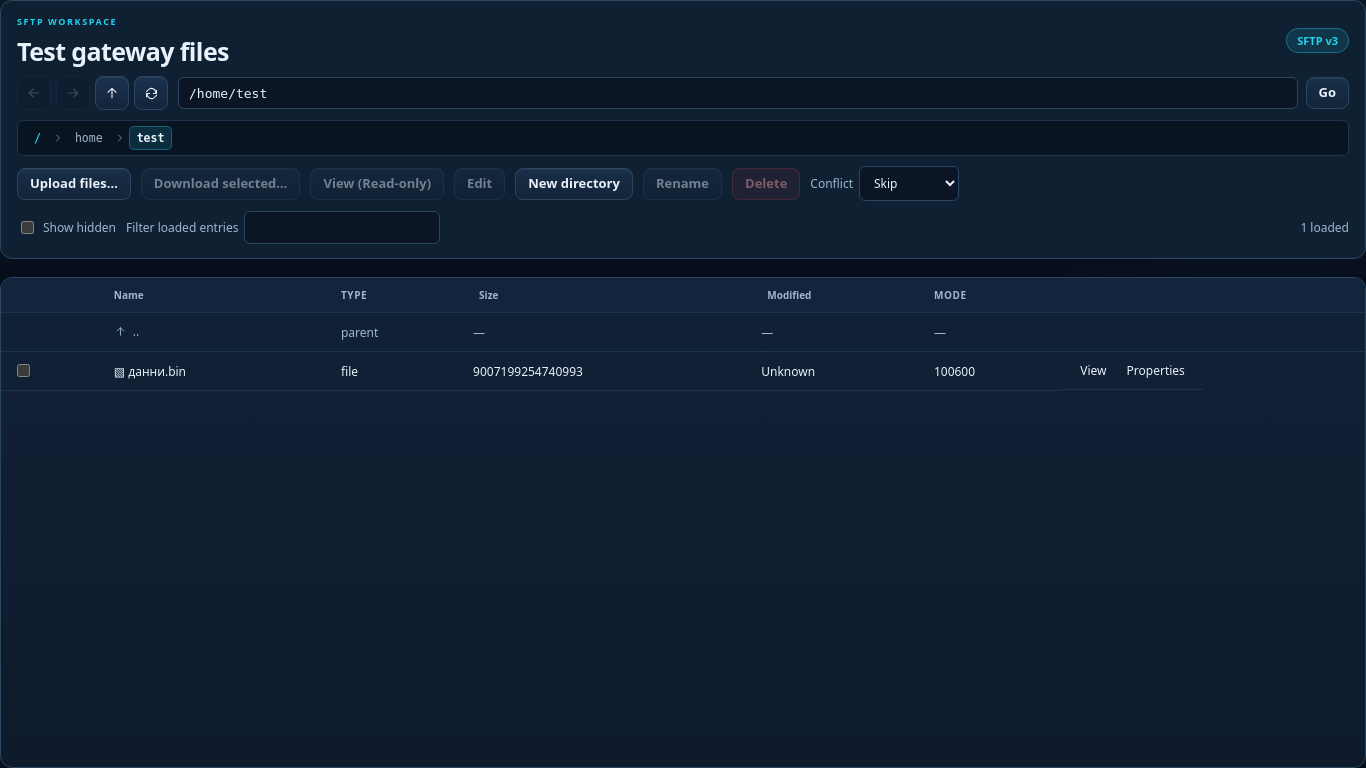
Test: Files workspace boundaries › L-05 keeps committed history index intact across permission failures, rapid Back/Forward, and out-of-order responses
This screenshot has width=1366, height=768.
Replace the text in the field named "Remote path" with "/etc" at (738, 93), box [178,77,1298,109]
Then press Enter
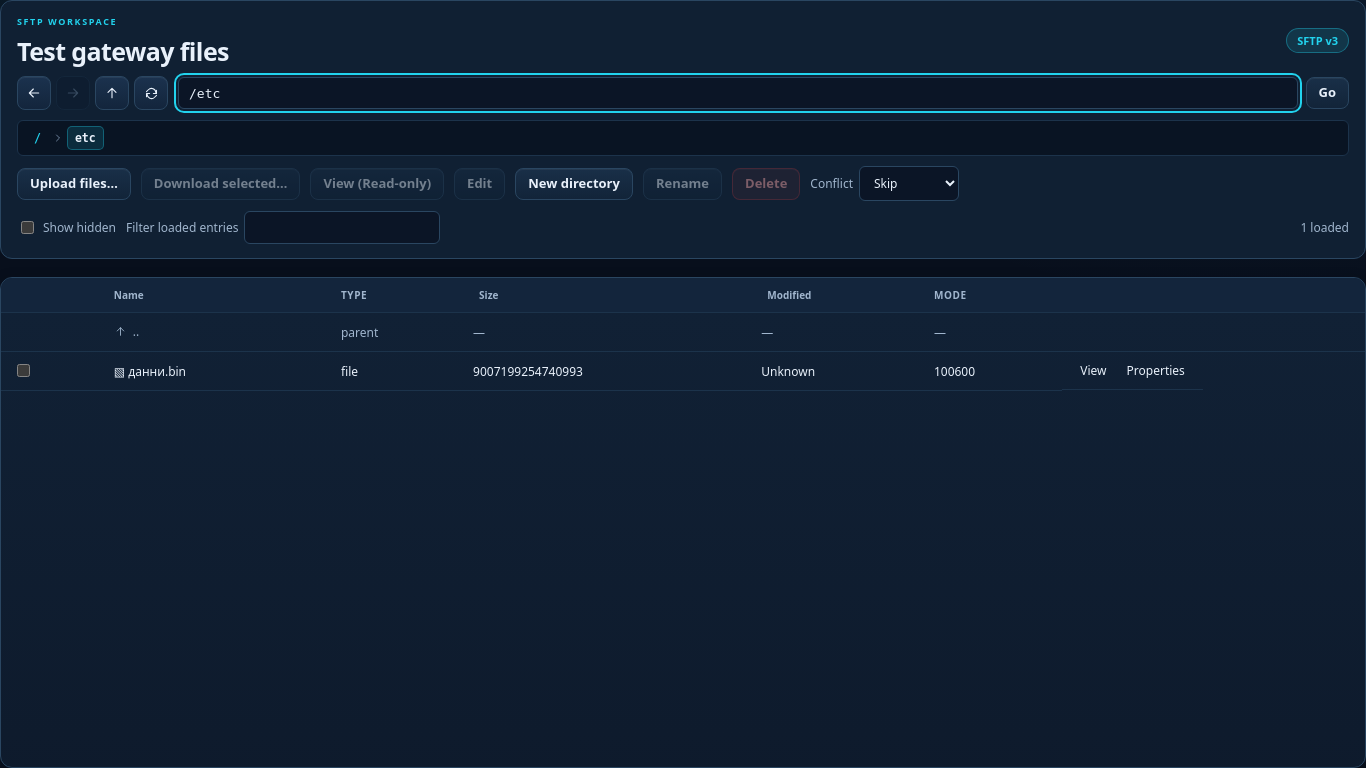
Replace the text in the field showing "/etc" with "/var/log" at (738, 93), box [178,77,1298,109]
Then press Enter
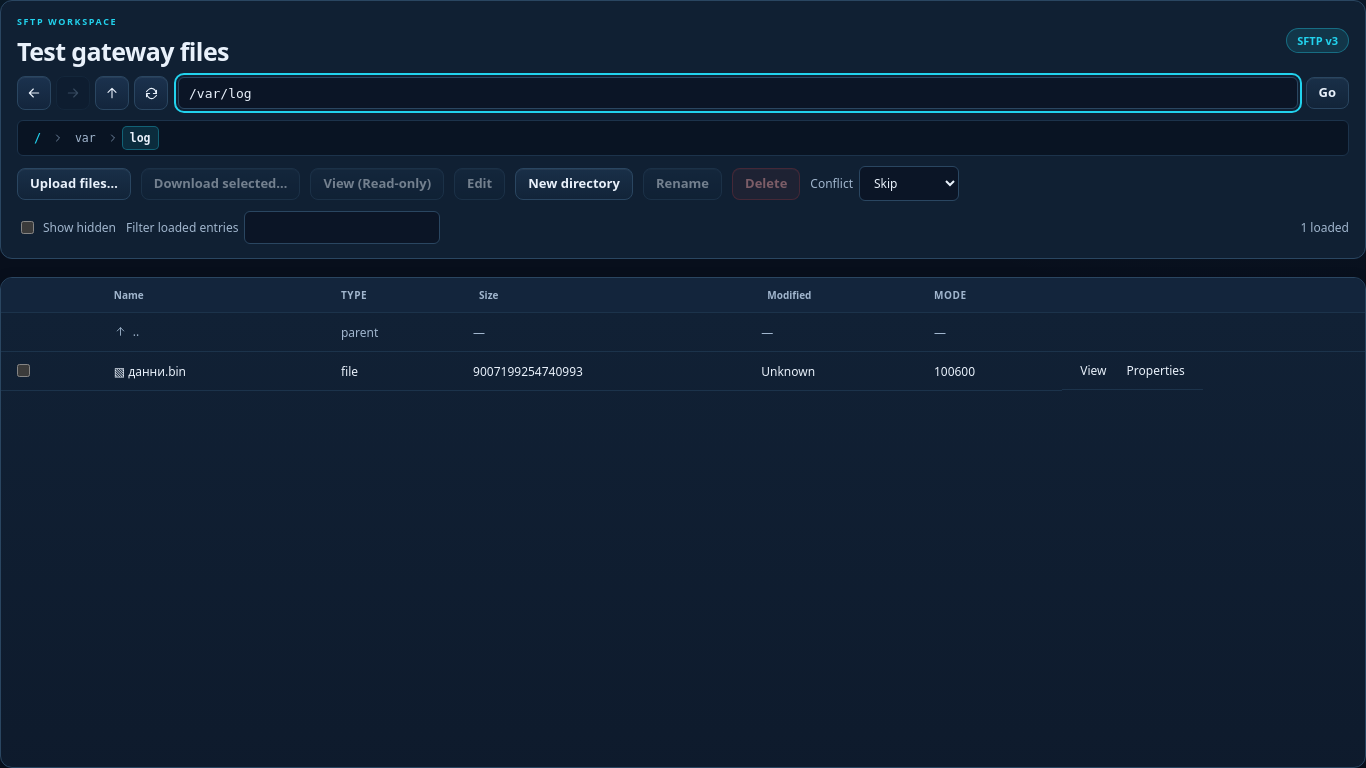
expect the button named "Forward" is disabled: met, box [56,76,90,110]
expect the button named "Back" is enabled: met
Click the button named "Back" at (34, 93), box [17,76,51,110]
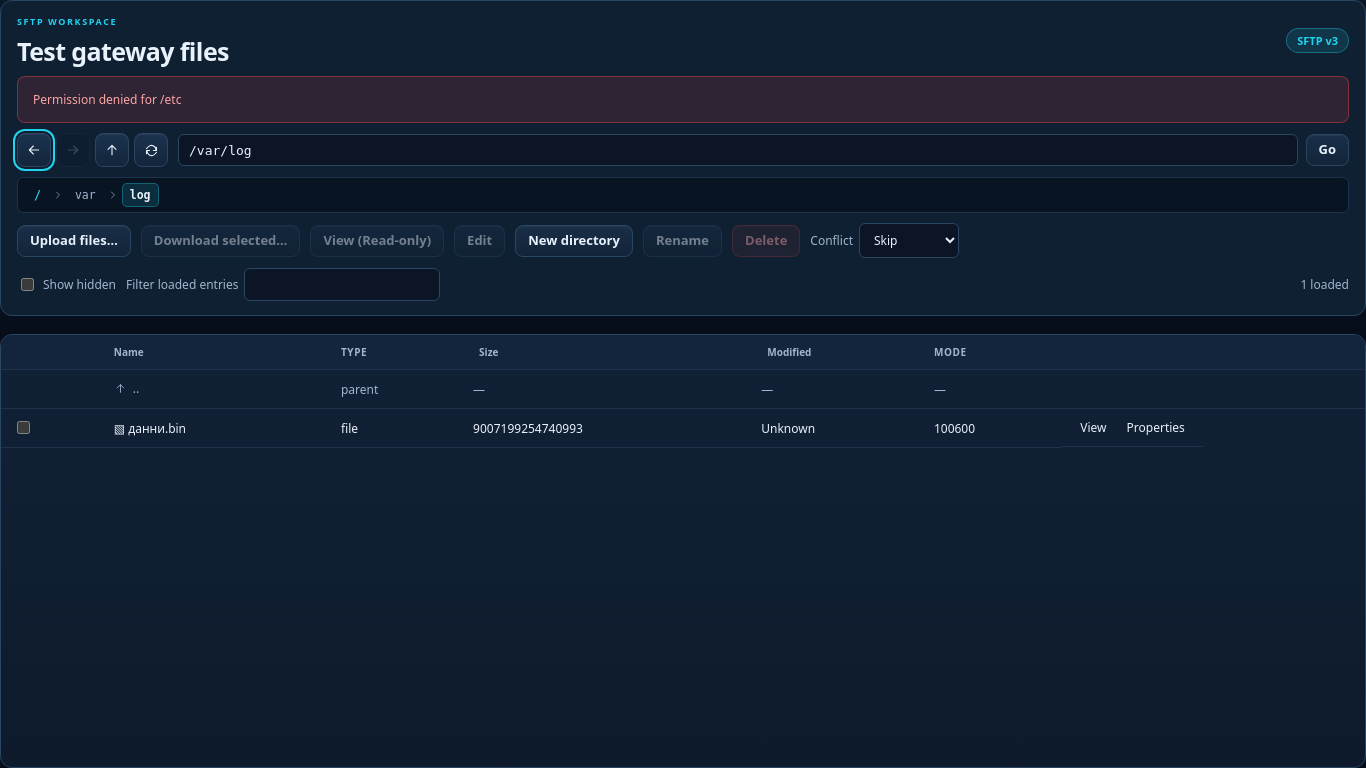
expect the button named "Forward" is disabled: met, box [56,133,90,167]
expect the button named "Back" is enabled: met
expect the message reads "Permission denied for /etc": met, box [33,91,181,108]
Click the button named "Back" at (34, 150), box [17,133,51,167]
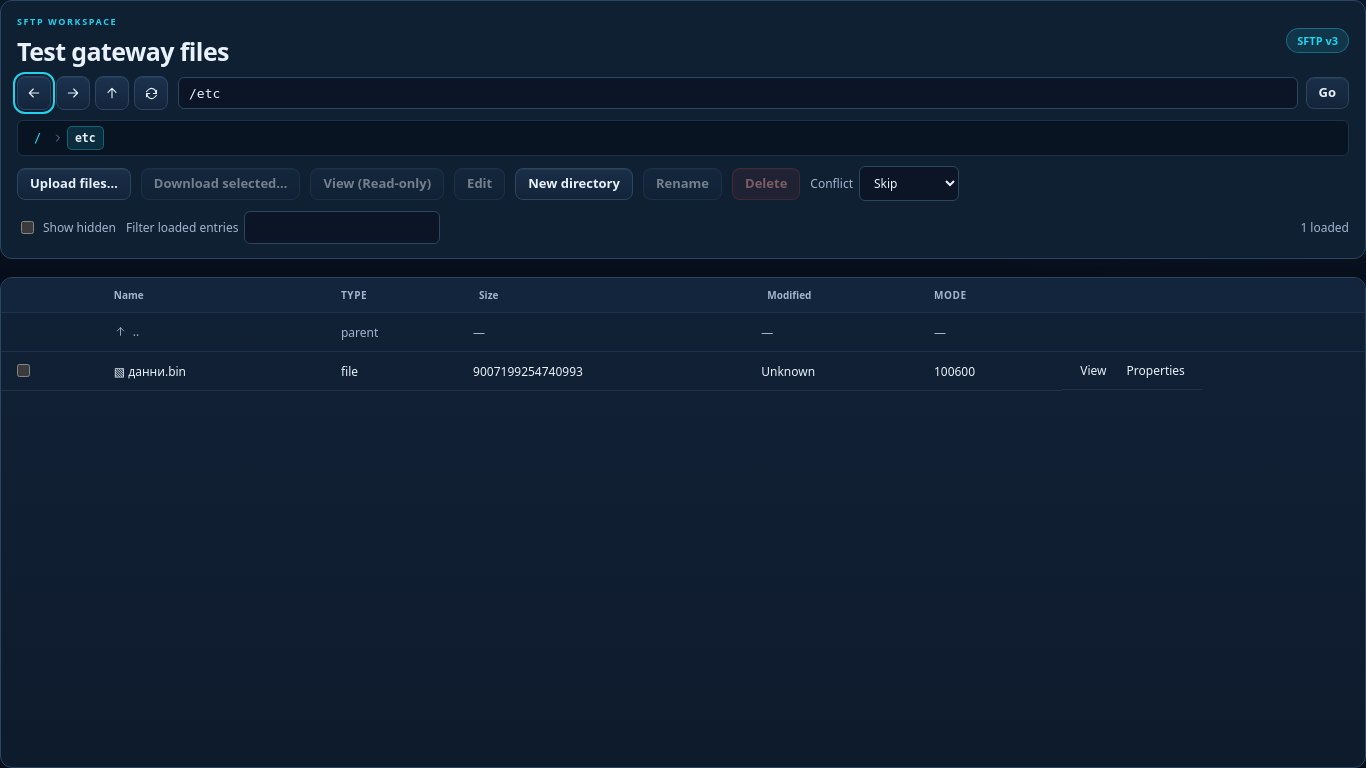
expect the button named "Back" is enabled: met
expect the button named "Forward" is enabled: met, box [56,76,90,110]
Click the button named "Back" at (34, 93), box [17,76,51,110]
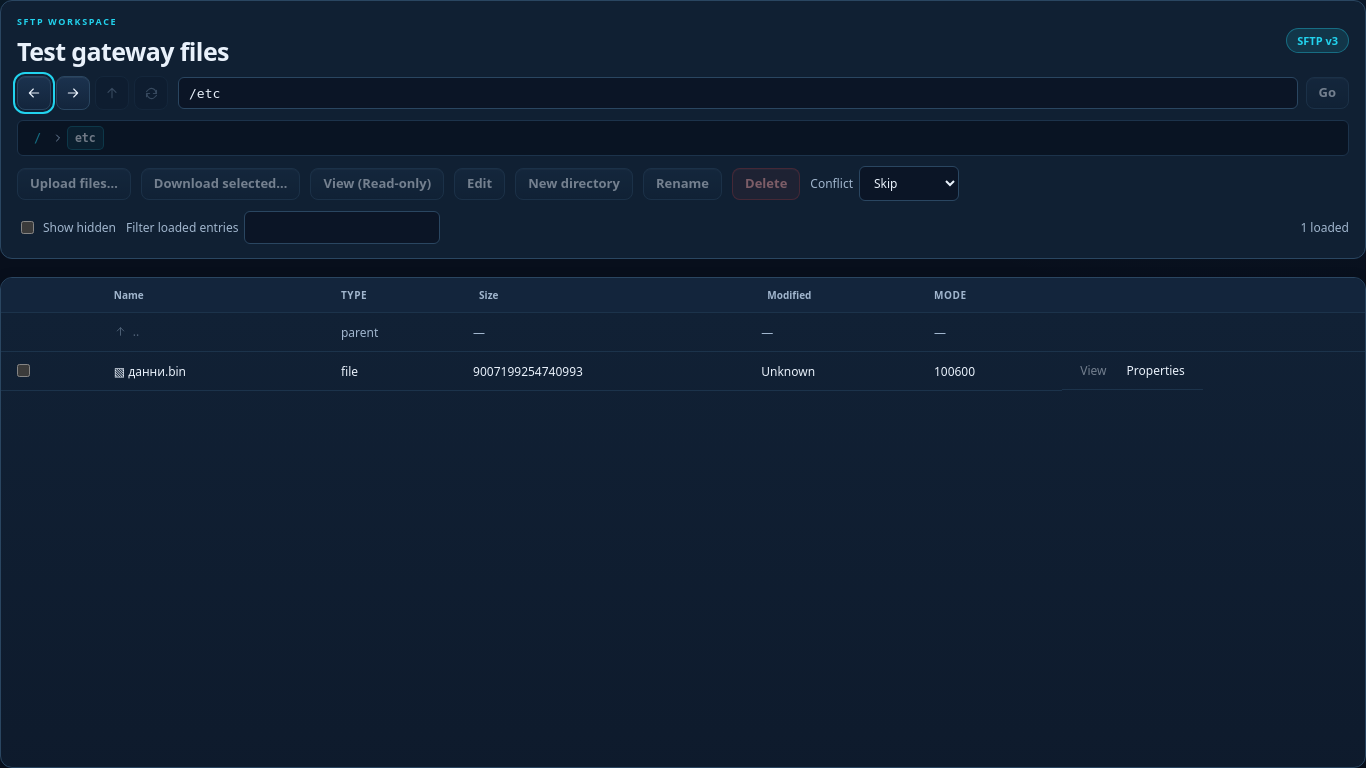
Click the button named "Forward" at (73, 93), box [56,76,90,110]
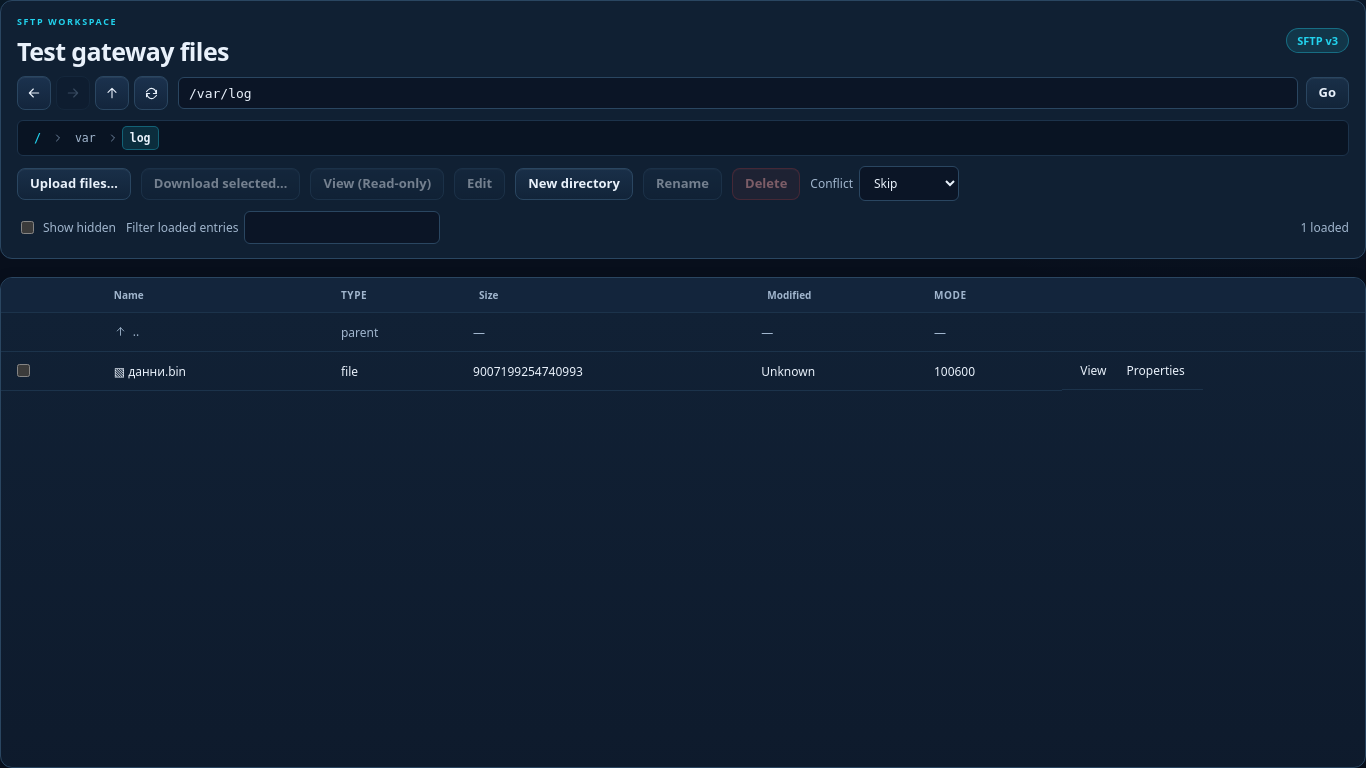
expect the button named "Forward" is disabled: met, box [56,76,90,110]
